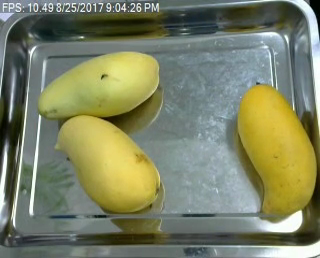Mango: (235, 84, 320, 219), (55, 115, 168, 212), (39, 49, 162, 120)
